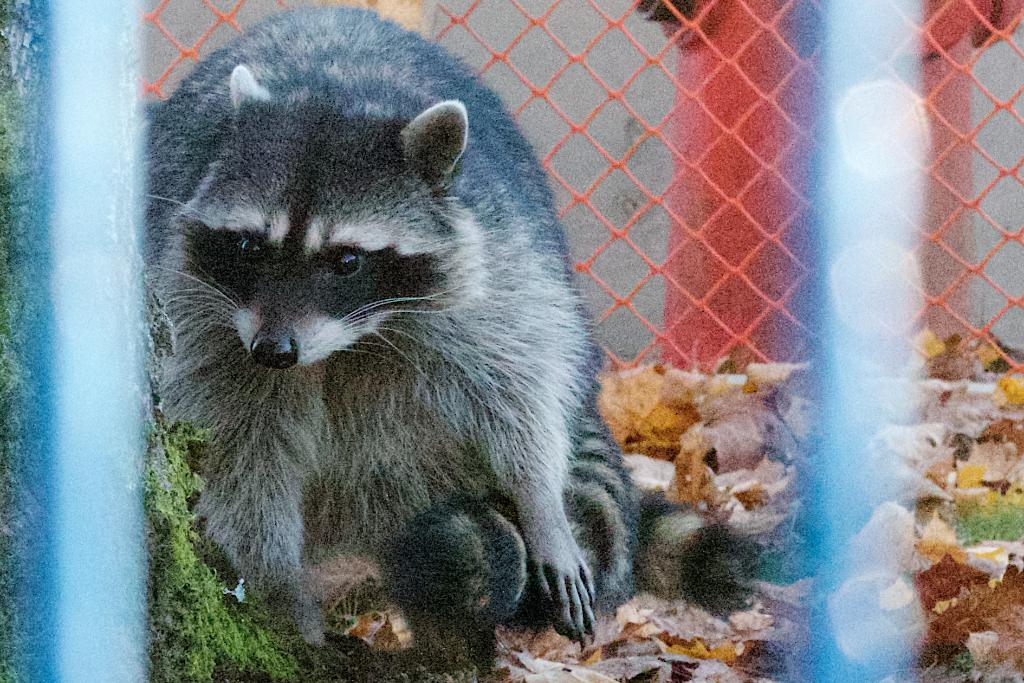raccoon: (144, 7, 637, 649)
